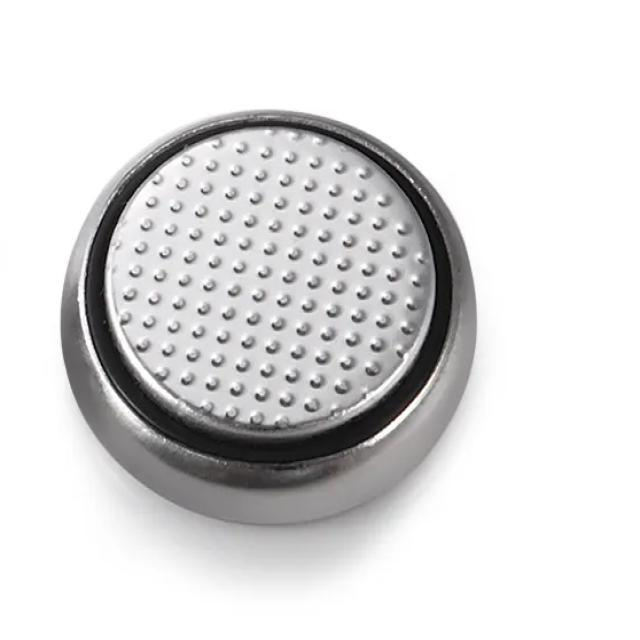COIN: (59, 107, 478, 526)
